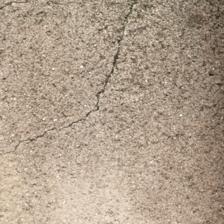Crack: (3, 3, 132, 152)
